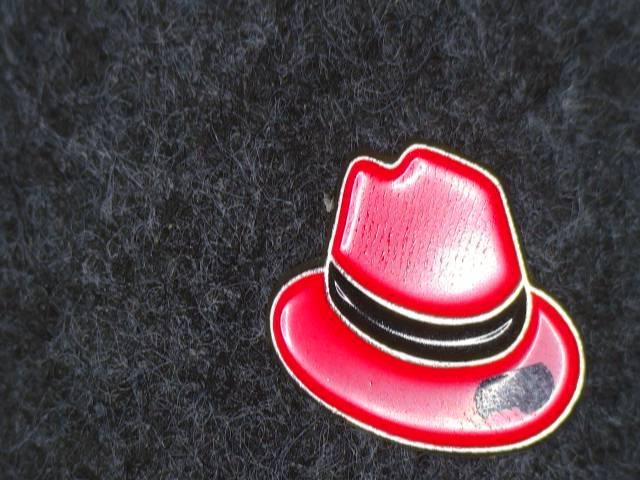Red-Hat: (221, 117, 620, 468)
Scratch: (461, 358, 579, 428)
